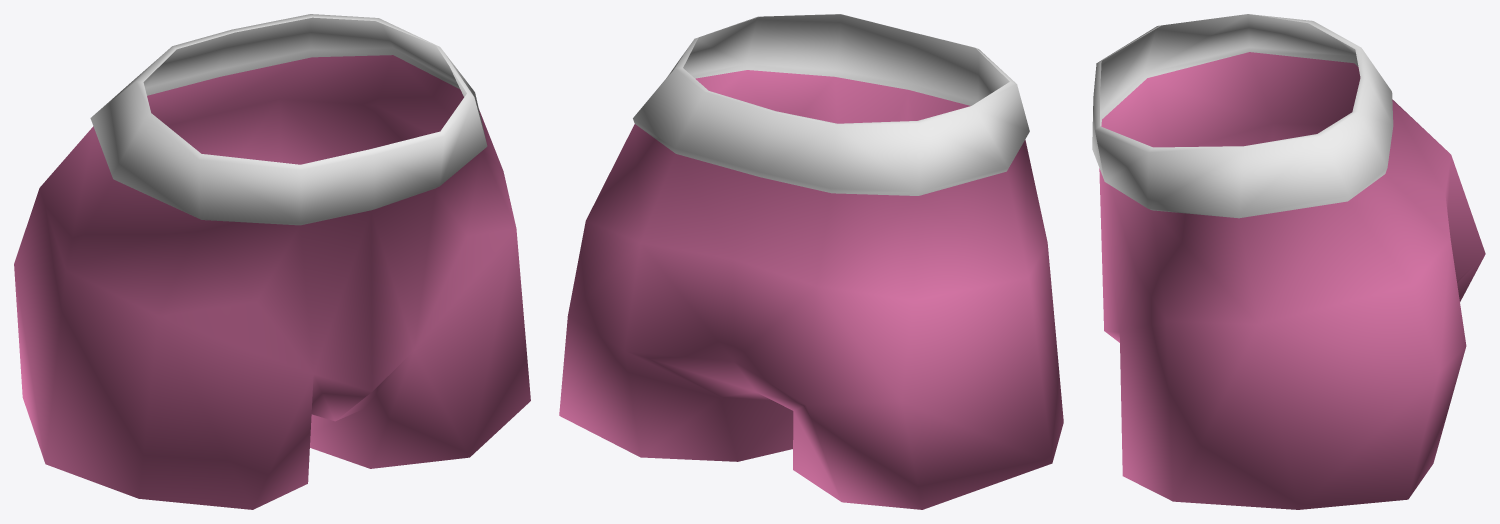
Rendered from UnderPants01F 1.fbx.
3 views of the same model, side by side, from view 1: azimuth 30°, elevation 25°; view 2: azimuth 150°, elevation 25°; view 3: azimuth 270°, elevation 25° (orthographic). The views are drawn at different scales.
Parts seen in each view (by area): view 1: UnderPants01F; view 2: UnderPants01F; view 3: UnderPants01F.
Boxes of the visible parts, x1,y1,x2,y2 form: UnderPants01F: [14, 14, 530, 509]; UnderPants01F: [559, 14, 1063, 509]; UnderPants01F: [1092, 14, 1485, 509].
Bounding box in the file's own units: 38.48 × 30.08 × 29.39.
